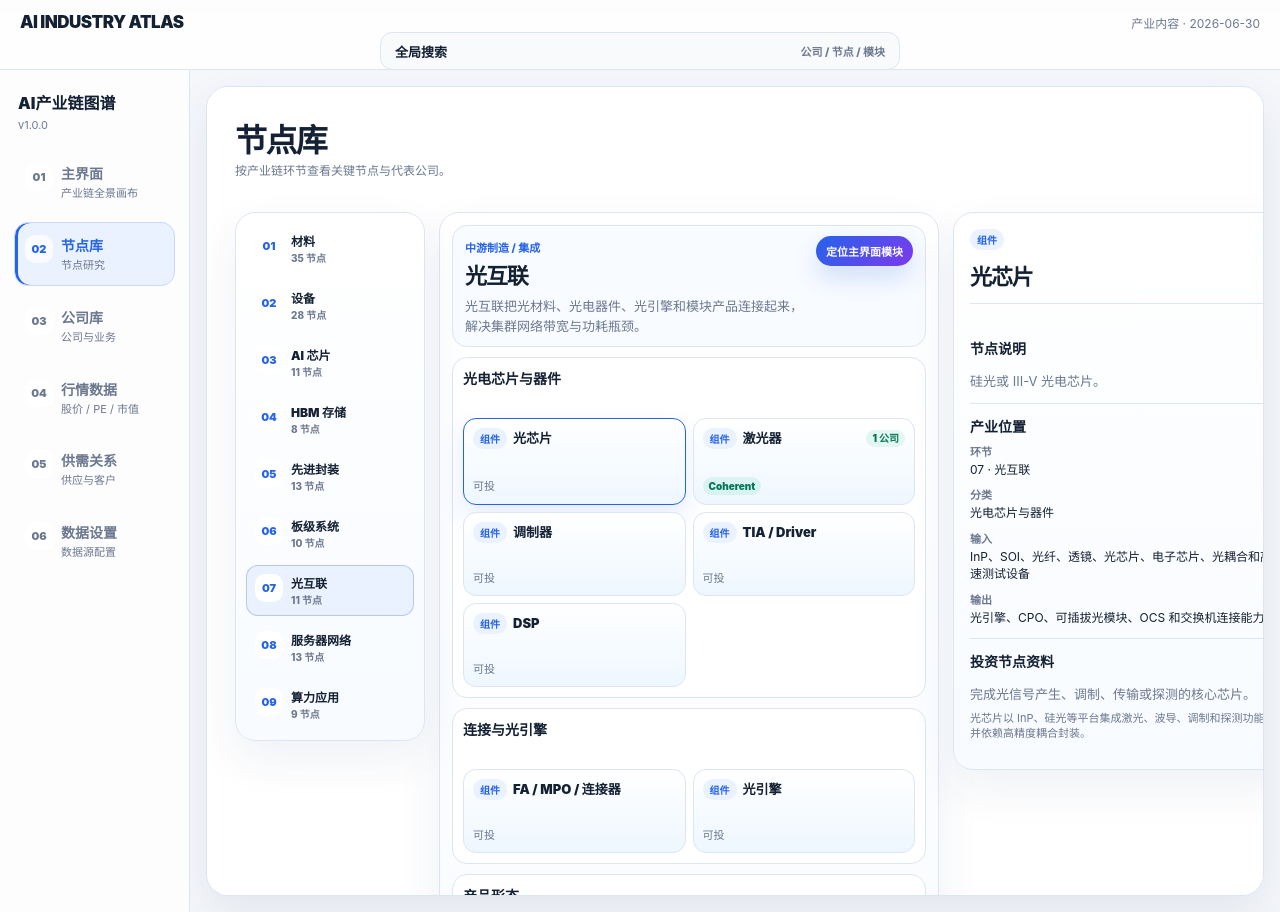
AtlasApp › shows subnode company coverage in the node library
Expected: the text "1 公司" is shown, 866,430 -> 905,447
Click the button with test id "library-node-laser-node": point(804, 462) 692,418 -> 915,505
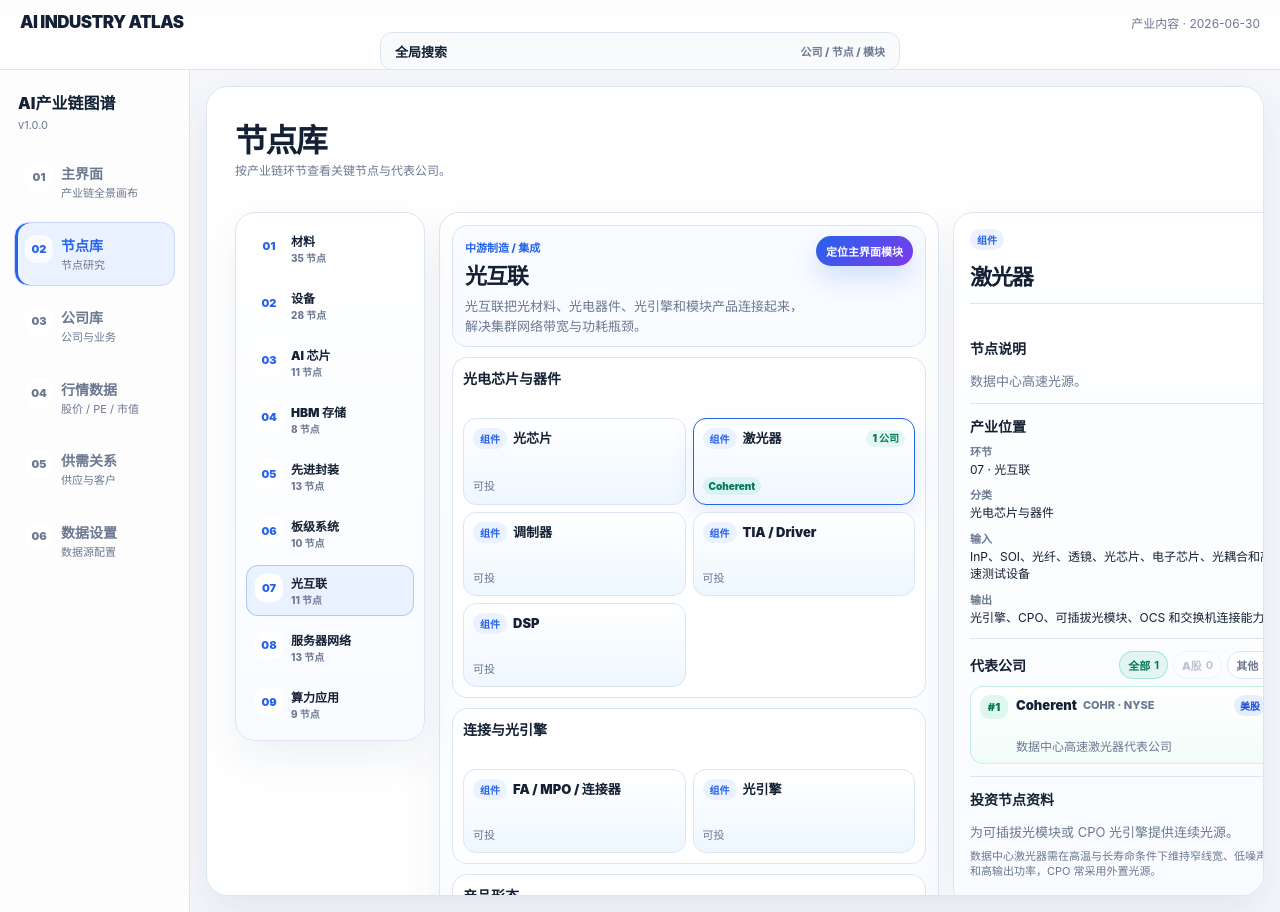
Result: the element "代表公司" is shown at 970,651 -> 1264,777
Result: the button "全部 1" is shown at 1119,651 -> 1168,679
Result: the button "其他 1" is shown at 1227,651 -> 1264,679
